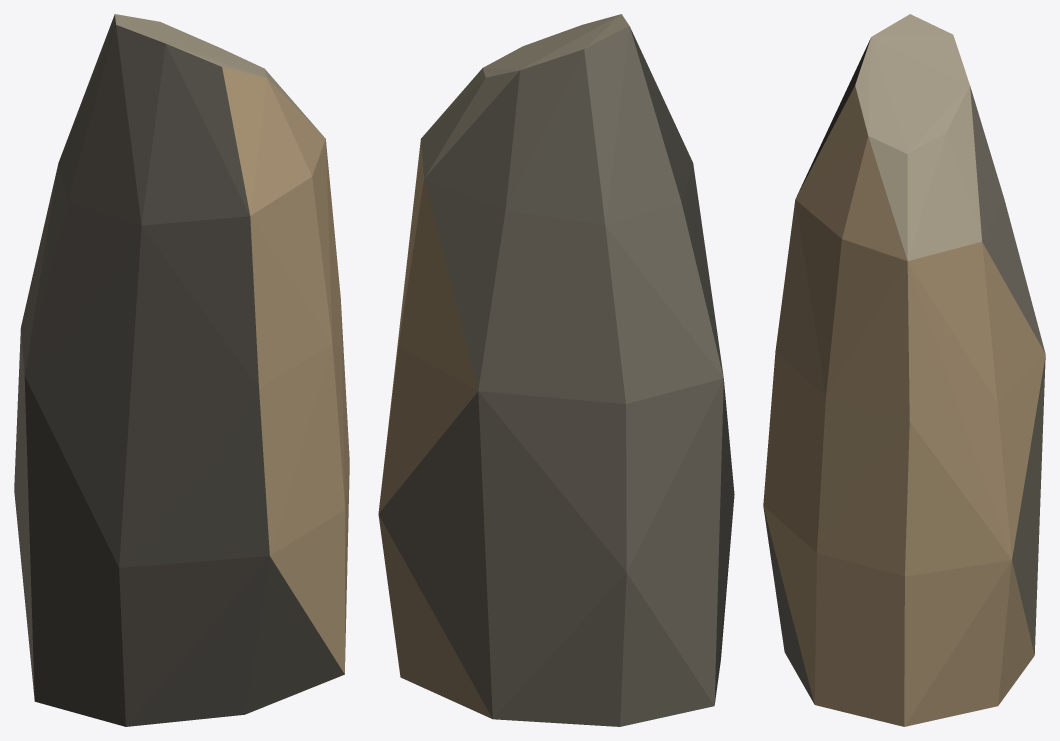
Rendered from TW_ROCK_UPRIGHT_A_LOD0.glb.
The picture shows the model from 3 angles, left to right: view 1: azimuth 30°, elevation 25°; view 2: azimuth 150°, elevation 25°; view 3: azimuth 270°, elevation 25°; orthographic projection. The views are drawn at different scales.
Parts seen in each view (by area): view 1: TW_ROCK_UPRIGHT_A_LOD0; view 2: TW_ROCK_UPRIGHT_A_LOD0; view 3: TW_ROCK_UPRIGHT_A_LOD0.
Boxes of the visible parts, box(x1,y1,x2,y2) form: TW_ROCK_UPRIGHT_A_LOD0: box(14, 14, 349, 726); TW_ROCK_UPRIGHT_A_LOD0: box(378, 14, 734, 726); TW_ROCK_UPRIGHT_A_LOD0: box(763, 14, 1045, 726).
Bounding box in the file's own units: 0.8 × 1.55 × 0.65.
Materials: 1 (1 with a texture image).
